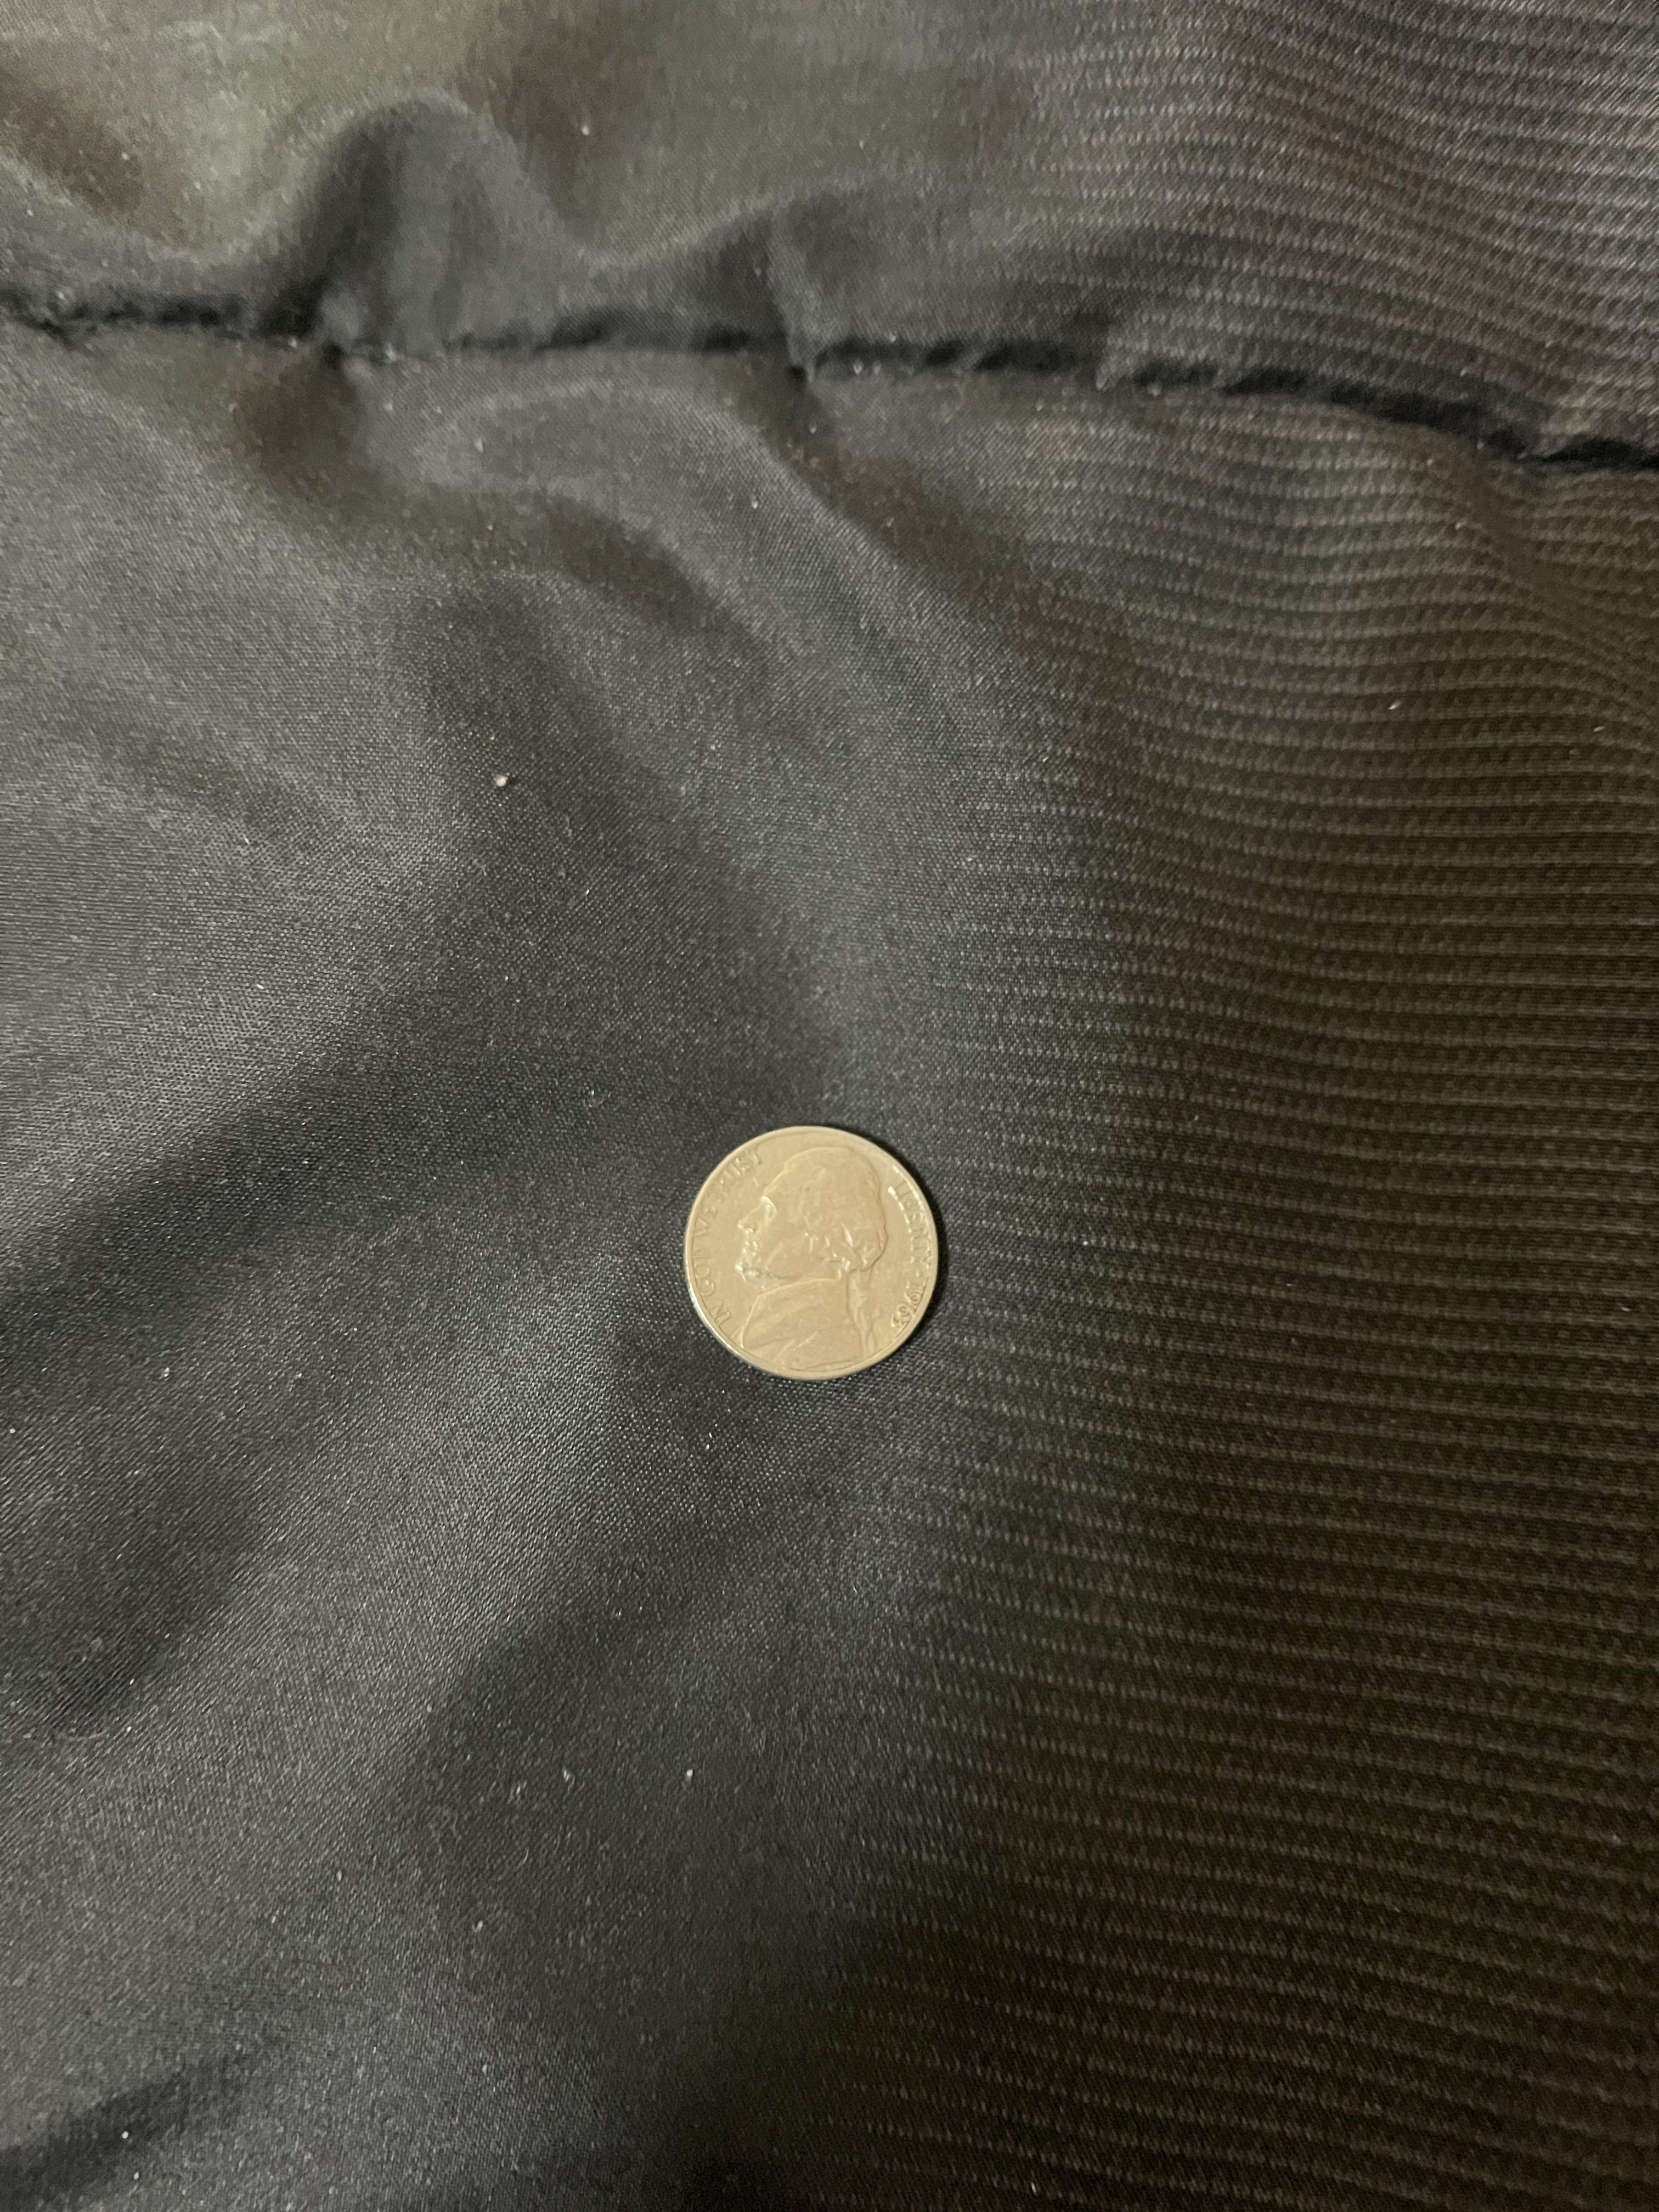Nickel: (671, 1116, 946, 1385)
